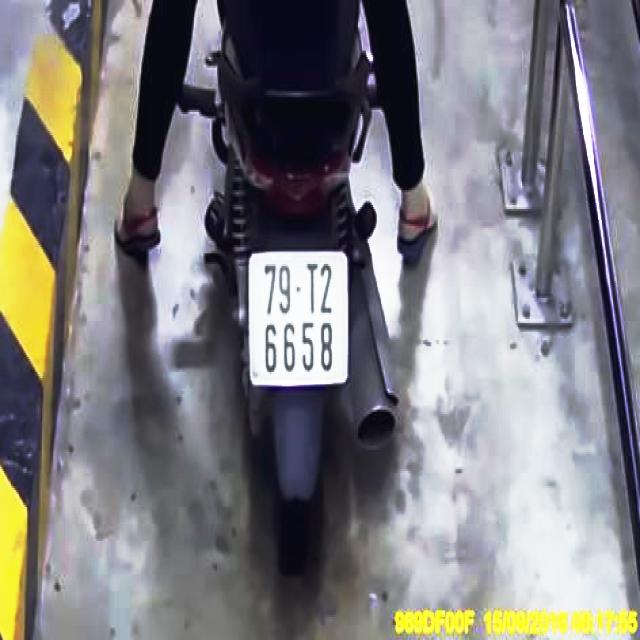license_plate: (251, 251, 349, 387)
